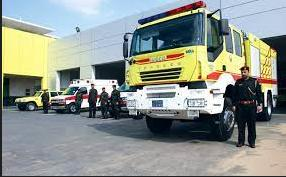ambulance_off: (48, 78, 120, 112)
firetruck_off: (122, 0, 278, 141)
